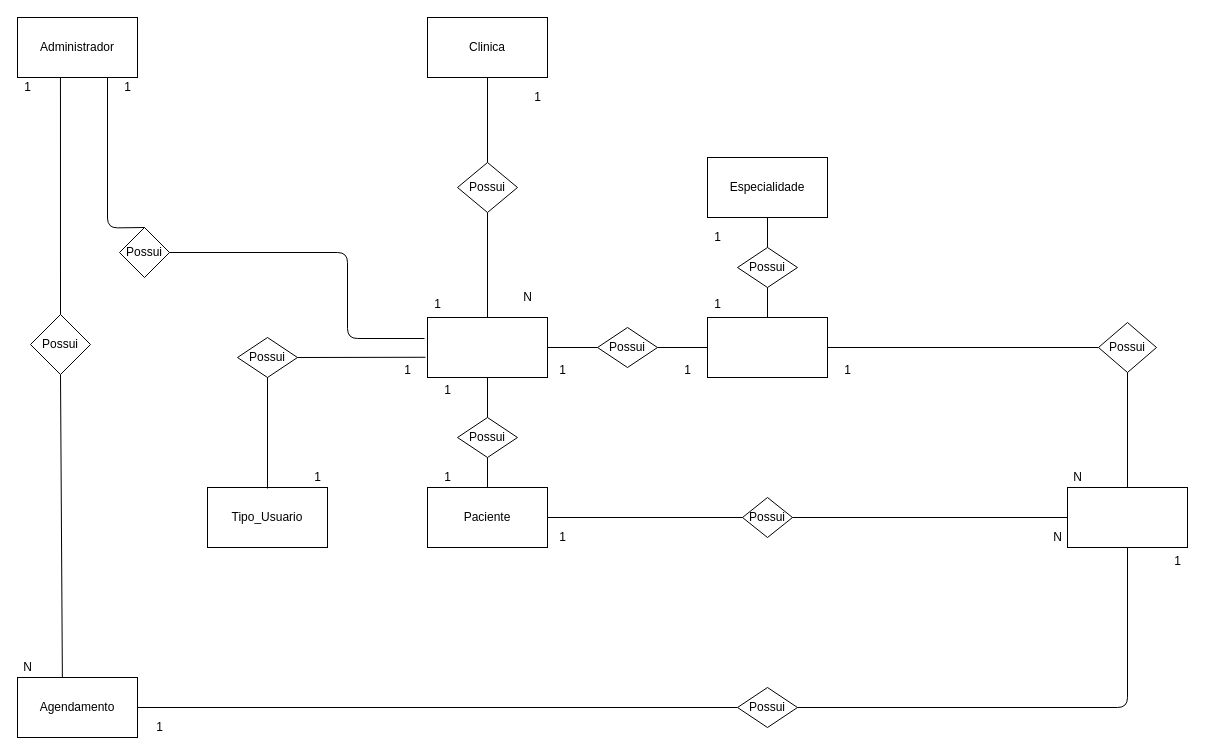
The diagram is 1205 pixels wide and 755 high, and some of its shapes have lost their labels. The shapes that lost their labels are listed below. From the top down, each one's centre as x and y in pixels, then its label:
point (487, 347): Usuario
point (767, 347): Medico
point (1127, 517): Consulta
